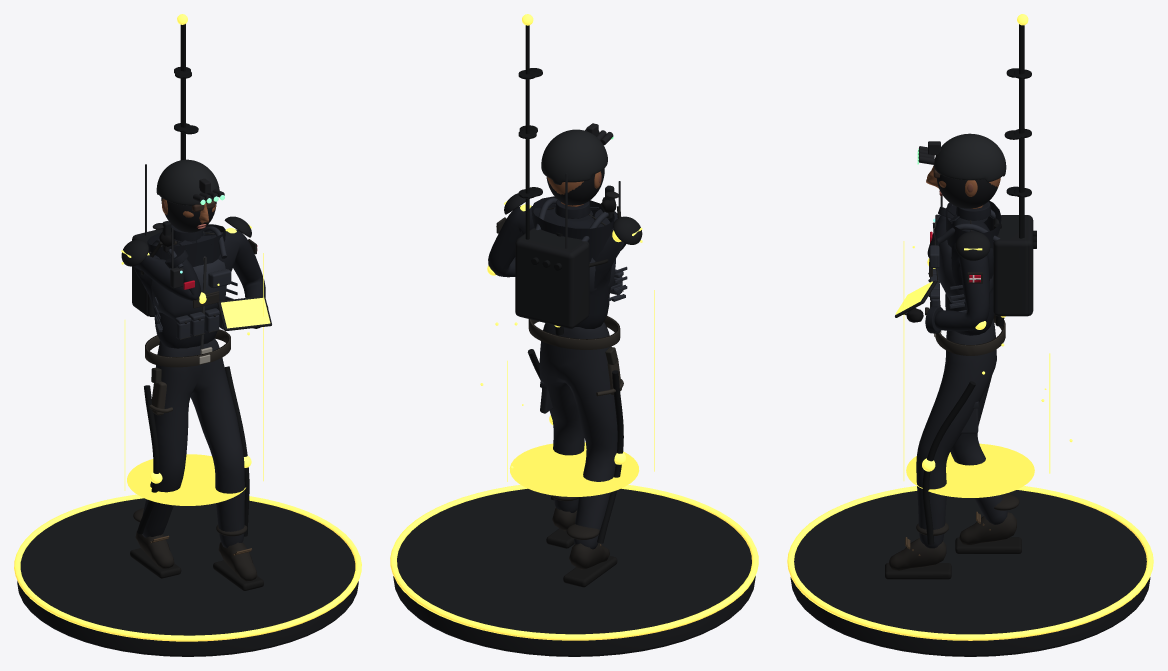
File: signal_nat.glb
3 renders of one model, left to right at view 1: azimuth 30°, elevation 25°; view 2: azimuth 150°, elevation 25°; view 3: azimuth 270°, elevation 25°, orthographic. The views are drawn at different scales.
Visible parts, largest first — view 1: fod_net, menneske_net, op1_net, hoved_net, op4.001_net, op4_net, vaaben_net, op3_net, ned1_net, op2_net; view 2: fod_net, menneske_net, op1_net, op4.001_net, hoved_net, op4_net, op3_net, ned1_net; view 3: fod_net, menneske_net, hoved_net, op1_net, op4.001_net, ned1_net, op4_net, op3_net, vaaben_net.
Boxes of the visible parts, bbox=[...] form: fod_net: bbox=[14, 494, 361, 656]; menneske_net: bbox=[130, 14, 265, 590]; op1_net: bbox=[132, 24, 268, 415]; hoved_net: bbox=[156, 159, 224, 232]; op4.001_net: bbox=[121, 253, 263, 505]; op4_net: bbox=[137, 228, 251, 536]; vaaben_net: bbox=[162, 221, 271, 331]; op3_net: bbox=[121, 164, 251, 323]; ned1_net: bbox=[139, 24, 249, 555]; op2_net: bbox=[153, 269, 251, 553]; fod_net: bbox=[390, 485, 758, 656]; menneske_net: bbox=[488, 14, 625, 587]; op1_net: bbox=[515, 25, 627, 396]; op4.001_net: bbox=[480, 240, 654, 496]; hoved_net: bbox=[541, 123, 613, 205]; op4_net: bbox=[487, 204, 626, 543]; op3_net: bbox=[504, 173, 642, 292]; ned1_net: bbox=[516, 68, 589, 313]; fod_net: bbox=[787, 486, 1153, 656]; menneske_net: bbox=[885, 14, 1028, 579]; hoved_net: bbox=[917, 133, 1006, 208]; op1_net: bbox=[925, 25, 1036, 355]; op4.001_net: bbox=[903, 241, 1072, 497]; ned1_net: bbox=[908, 24, 1034, 555]; op4_net: bbox=[922, 223, 1005, 544]; op3_net: bbox=[950, 231, 990, 308]; vaaben_net: bbox=[895, 280, 936, 317].
Size of the model in its own units: 1.94 by 3.37 by 1.94.
